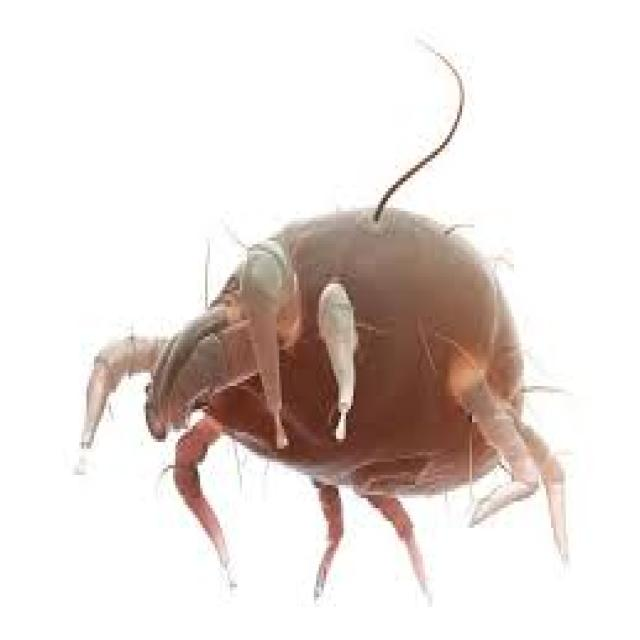Mites: (52, 32, 602, 618)
